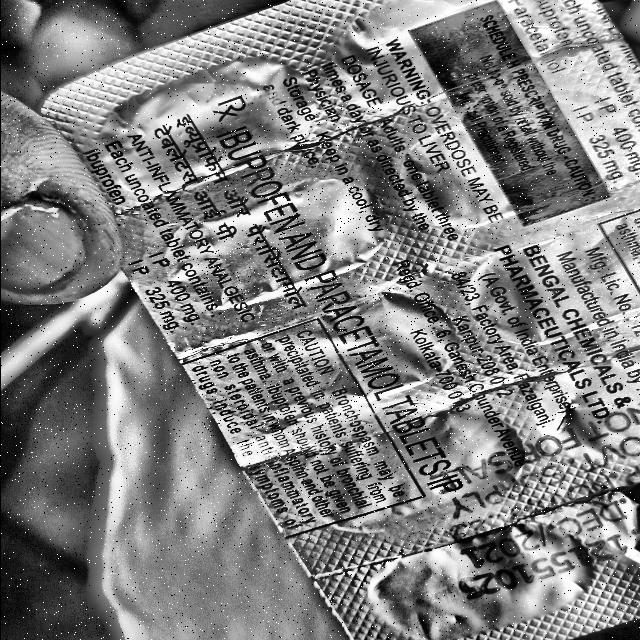IBUPROFEN AND PARACETAMOL TABLETS: (200, 122, 479, 503)
